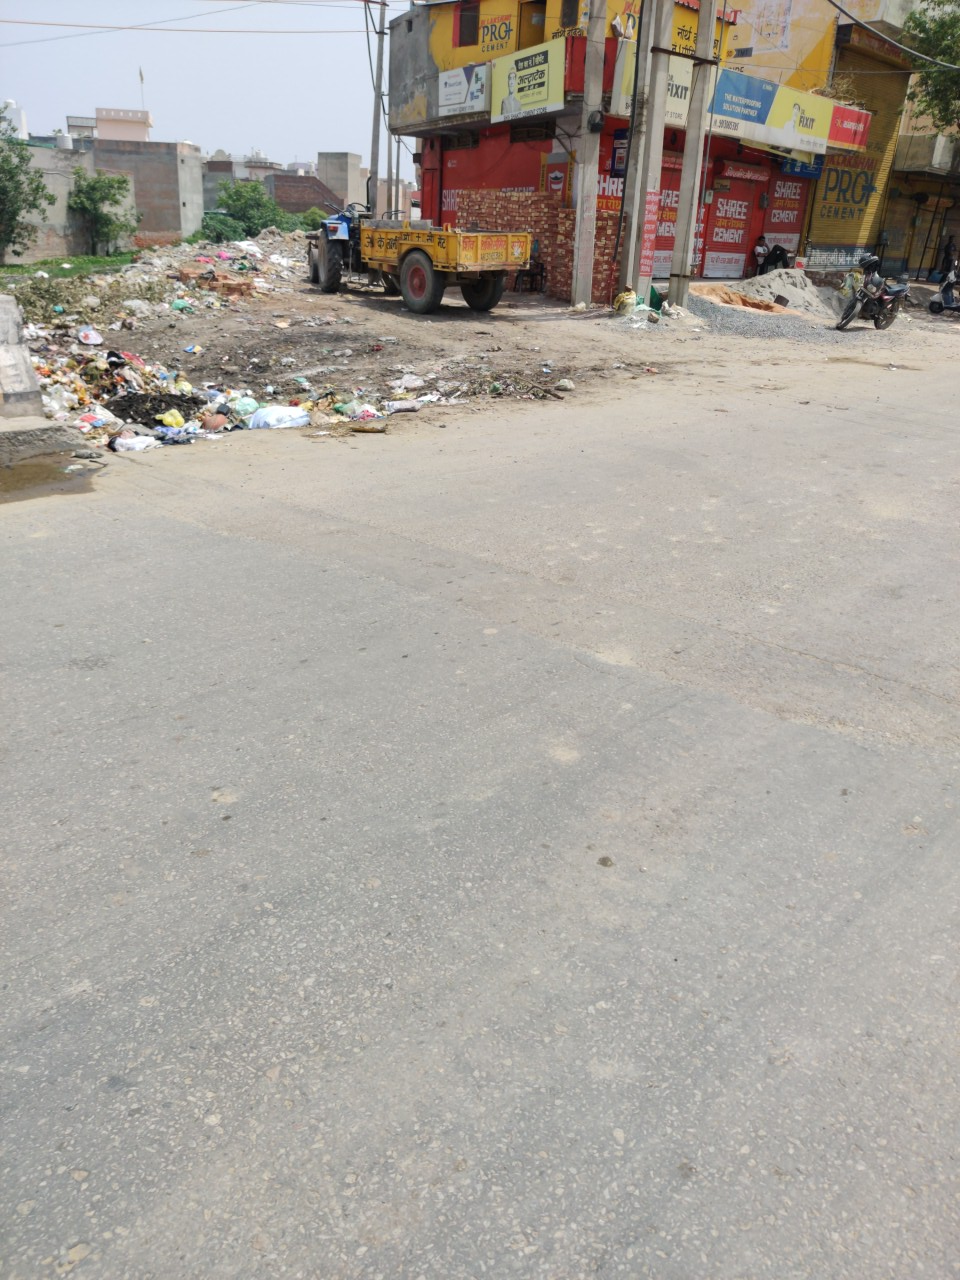tractor: (303, 173, 533, 314)
